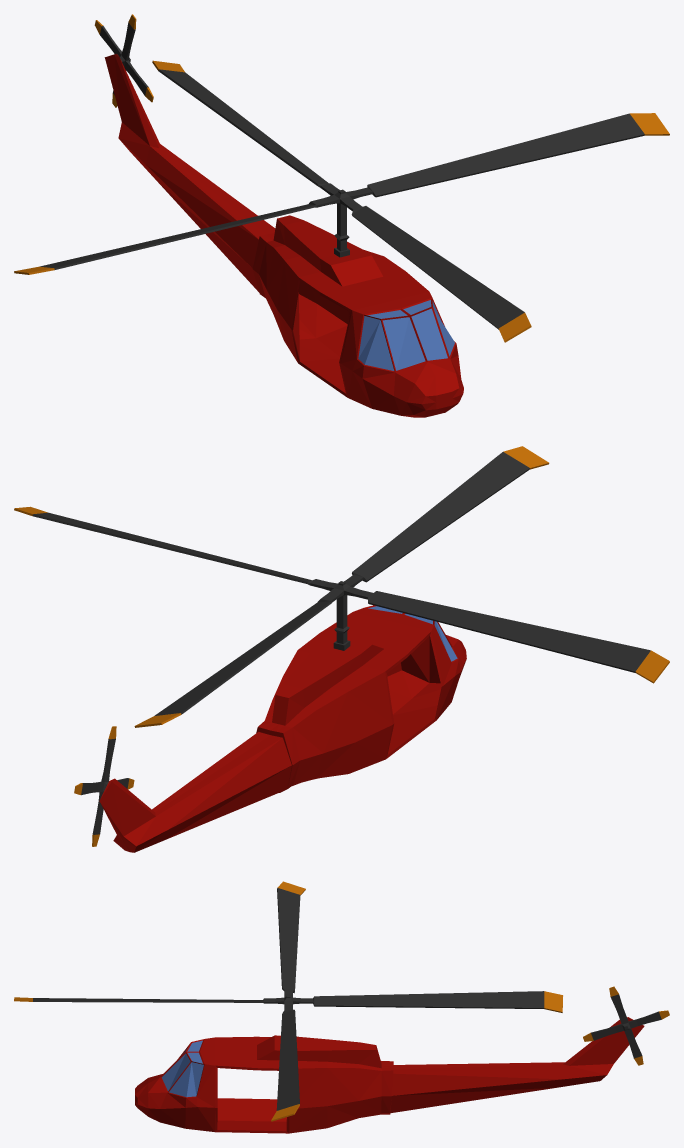
Rendered from enemyChopper1 1.dae.
The picture shows the model from 3 angles, top to bottom: view 1: azimuth 30°, elevation 25°; view 2: azimuth 150°, elevation 25°; view 3: azimuth 270°, elevation 25°; orthographic projection. The views are drawn at different scales.
Visible parts, largest first — view 1: Chopper, Main Rotor, Tail Rotor; view 2: Chopper, Main Rotor, Tail Rotor; view 3: Chopper, Main Rotor, Tail Rotor.
Boxes of the visible parts, x1,y1,x2,y2 form: Chopper: (104,54,463,417); Main Rotor: (14,60,669,342); Tail Rotor: (94,14,153,107); Chopper: (99,605,466,852); Main Rotor: (14,446,669,727); Tail Rotor: (74,726,134,846); Chopper: (135,1017,644,1133); Main Rotor: (14,881,562,1121); Tail Rotor: (583,986,669,1065).
Bounding box in the file's own units: 6.91 × 8.25 × 1.91.
